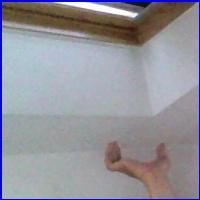space: (100, 132, 180, 185)
